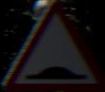Speed Breaker ahead: (13, 18, 95, 82)
